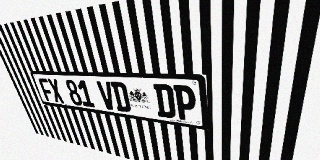1: (75, 80, 95, 108)
8: (64, 79, 83, 106)
D: (153, 84, 176, 119), (110, 81, 131, 113)
F: (38, 78, 55, 102)
P: (173, 85, 197, 122)
V: (96, 81, 117, 111)
X: (47, 78, 65, 103)
